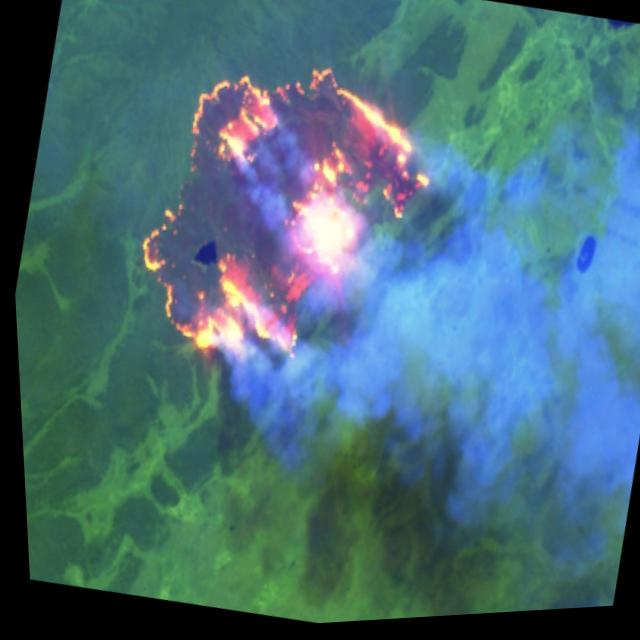fire: (102, 16, 464, 414)
